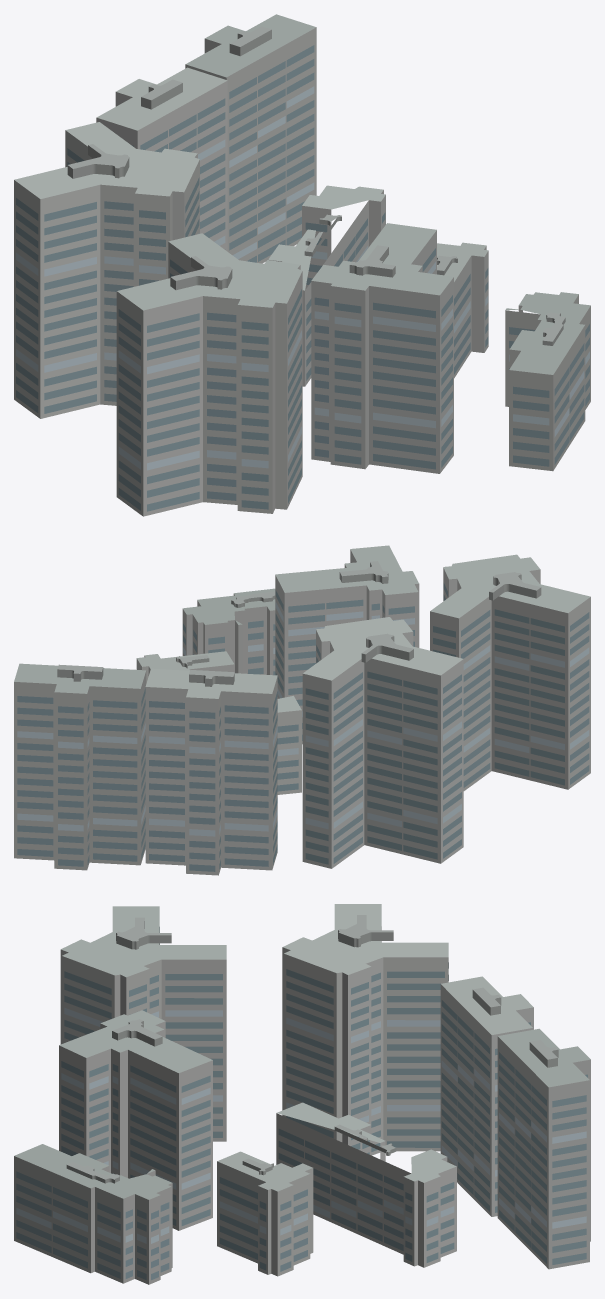
The model's file is apt-a10020486.glb.
The picture shows the model from 3 angles, top to bottom: view 1: azimuth 30°, elevation 25°; view 2: azimuth 150°, elevation 25°; view 3: azimuth 270°, elevation 25°; orthographic projection. The views are drawn at different scales.
Visible parts, largest first — view 1: apt-a10020486; view 2: apt-a10020486; view 3: apt-a10020486.
Part boxes in pixels (x1,y1,x2,y2): apt-a10020486: [14, 14, 590, 516]; apt-a10020486: [14, 545, 590, 875]; apt-a10020486: [14, 904, 590, 1284].
Bounding box in the file's own units: 106 × 51 × 131.
